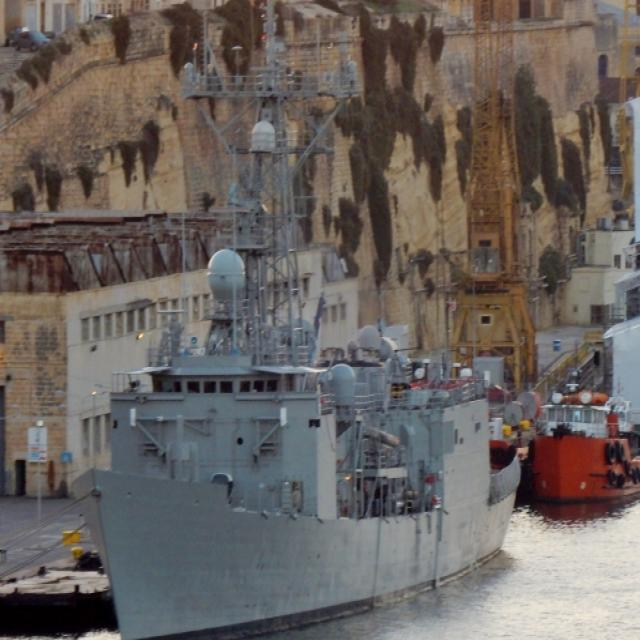Fragata: (66, 1, 528, 640)
